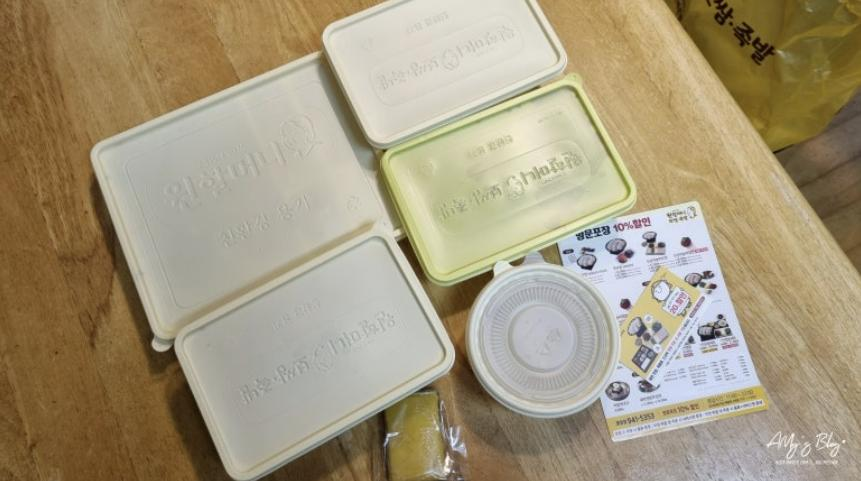Lunch Box: (91, 52, 405, 350), (173, 221, 454, 480), (381, 74, 635, 284), (322, 0, 567, 150), (665, 0, 860, 150)
cup: (465, 251, 620, 417)
